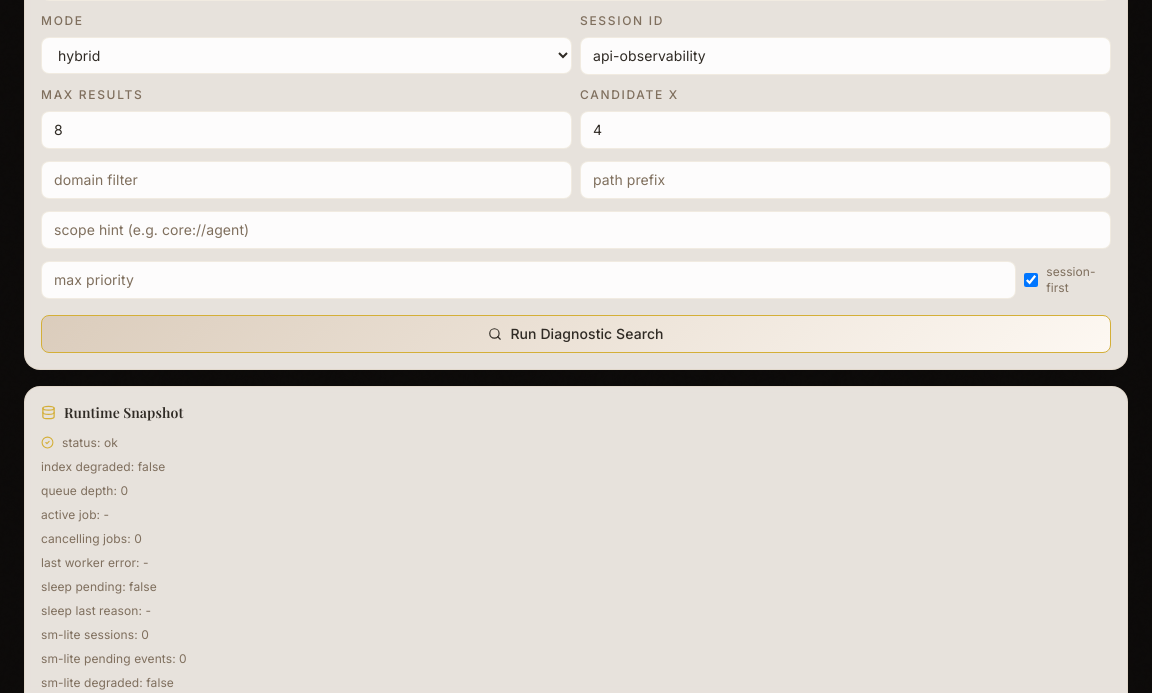
Test: ObservabilityPage › renders the latest diagnostic-search trace details when a search returns trace metadata
This screenshot has width=1152, height=693.
(page scrolled)
Step 1. Click the button "Run Diagnostic Search" → (576, 334), box [41,314,1111,352]
(page scrolled)
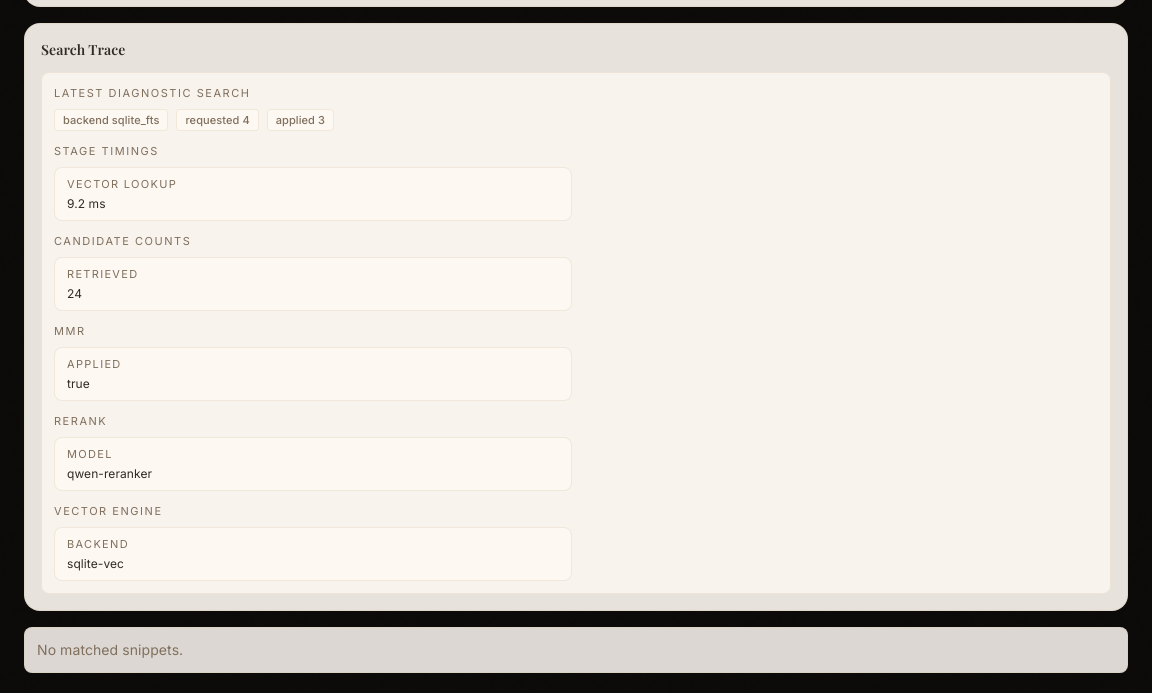
expect the text "Latest Diagnostic Search" is shown: met, box [54,86,250,100]
expect the text "backend sqlite_fts" is shown: met, box [54,108,168,130]
expect the text "requested 4" is shown: met, box [176,108,259,130]
